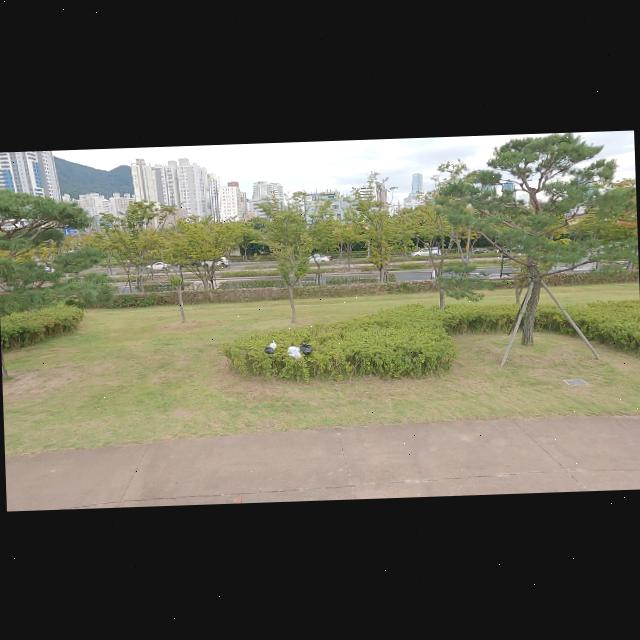trash: (299, 339, 313, 354), (288, 348, 300, 360), (288, 343, 300, 352), (269, 338, 277, 348), (264, 345, 274, 353)
